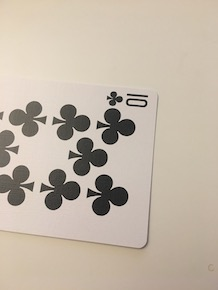TenOfClubs: (1, 70, 171, 250)
